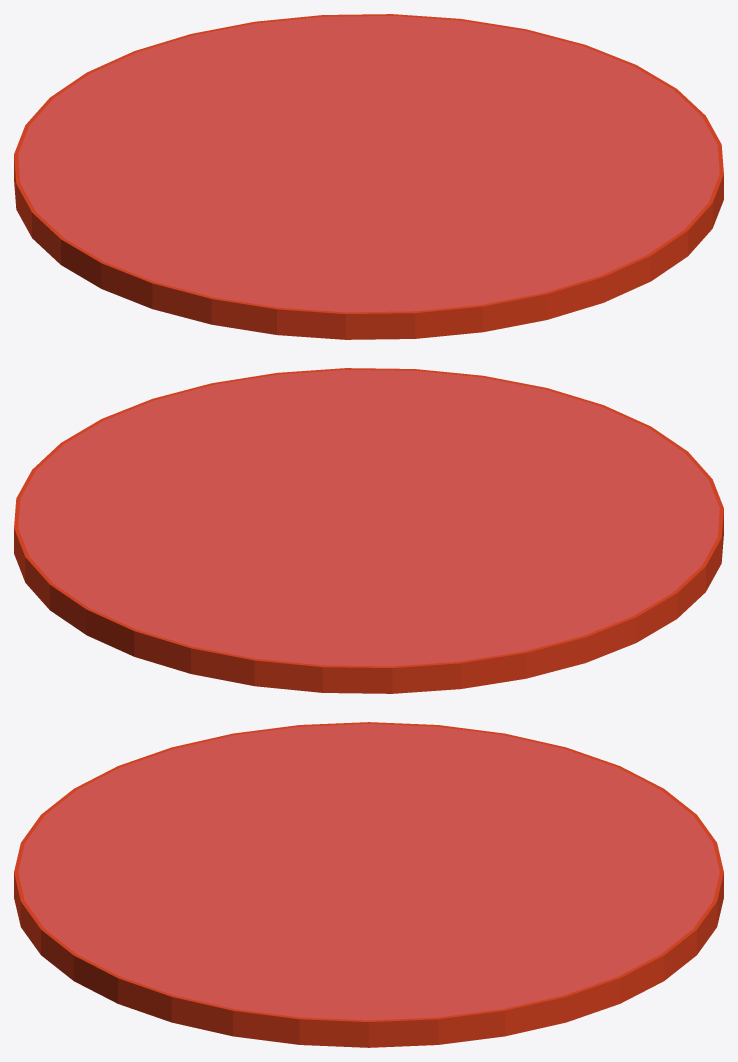
File: pepperoni.glb
The picture shows the model from 3 angles, top to bottom: view 1: azimuth 30°, elevation 25°; view 2: azimuth 150°, elevation 25°; view 3: azimuth 270°, elevation 25°; orthographic projection.
Parts seen in each view (by area): view 1: Pepperoni; view 2: Pepperoni; view 3: Pepperoni.
Boxes of the visible parts, x1=… form: Pepperoni: x1=14, y1=14, x2=723, y2=339; Pepperoni: x1=14, y1=368, x2=723, y2=693; Pepperoni: x1=14, y1=722, x2=723, y2=1047.
Bounding box in the file's own units: 0.2839 × 0.0113 × 0.2839.
